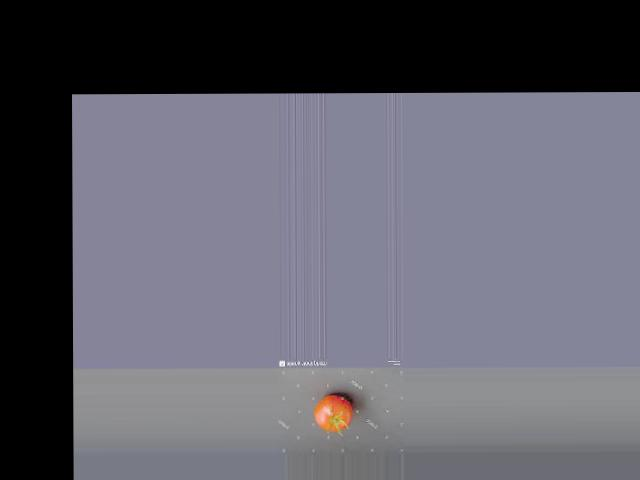tomato: (314, 396, 353, 431)
